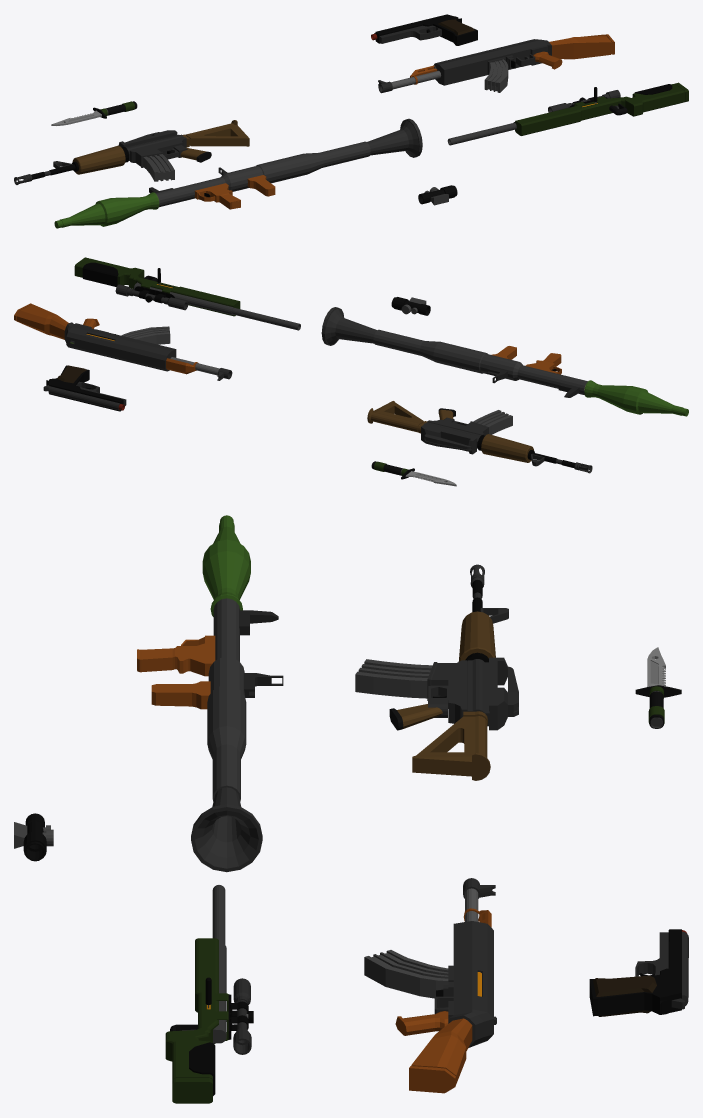
Rendered from lowpoly_guns_package.glb.
The picture shows the model from 3 angles, top to bottom: view 1: azimuth 30°, elevation 25°; view 2: azimuth 150°, elevation 25°; view 3: azimuth 270°, elevation 25°; orthographic projection. The views are drawn at different scales.
Parts seen in each view (by area): view 1: RPG, AK, M4, Cube, Pistol, RPGAmmo, M4Magazine, Knife, AkMagazine, 4X Scope; view 2: RPG, AK, M4, Cube, RPGAmmo, Pistol, Knife, AkMagazine, M4Magazine, 4X Scope; view 3: RPG, M4, AK, Cube, Pistol, RPGAmmo, AkMagazine, M4Magazine, Knife, 4X Scope.
Part boxes in pixels (x1=…): RPG: x1=149, y1=118, x2=422, y2=209; AK: x1=378, y1=34, x2=614, y2=93; M4: x1=14, y1=120, x2=249, y2=184; Cube: x1=447, y1=82, x2=688, y2=145; Pistol: x1=371, y1=14, x2=477, y2=45; RPGAmmo: x1=54, y1=192, x2=159, y2=228; M4Magazine: x1=143, y1=154, x2=174, y2=181; Knife: x1=51, y1=101, x2=137, y2=125; AkMagazine: x1=484, y1=59, x2=508, y2=92; 4X Scope: x1=418, y1=185, x2=457, y2=205; RPG: x1=321, y1=307, x2=587, y2=397; AK: x1=14, y1=303, x2=232, y2=380; M4: x1=367, y1=401, x2=592, y2=473; Cube: x1=74, y1=257, x2=300, y2=330; RPGAmmo: x1=584, y1=380, x2=688, y2=416; Pistol: x1=43, y1=365, x2=126, y2=411; Knife: x1=371, y1=461, x2=456, y2=486; AkMagazine: x1=121, y1=326, x2=170, y2=344; M4Magazine: x1=473, y1=410, x2=512, y2=434; 4X Scope: x1=391, y1=297, x2=430, y2=315; RPG: x1=137, y1=598, x2=283, y2=872; M4: x1=389, y1=564, x2=518, y2=780; AK: x1=395, y1=878, x2=496, y2=1093; Cube: x1=165, y1=885, x2=253, y2=1103; Pistol: x1=589, y1=929, x2=688, y2=1016; RPGAmmo: x1=202, y1=515, x2=250, y2=616; AkMagazine: x1=364, y1=950, x2=448, y2=998; M4Magazine: x1=355, y1=659, x2=432, y2=698; Knife: x1=635, y1=647, x2=681, y2=728; 4X Scope: x1=14, y1=813, x2=53, y2=861.
Size of the model in its own units: 12.62 by 0.7942 by 6.53.
Materials: 1 (1 with a texture image).
